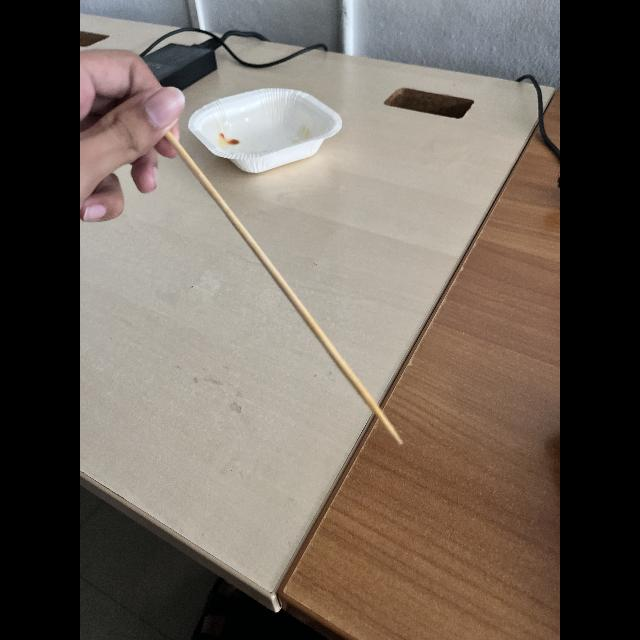cardboard_bowl: (180, 80, 356, 180)
stick: (124, 97, 420, 459)
